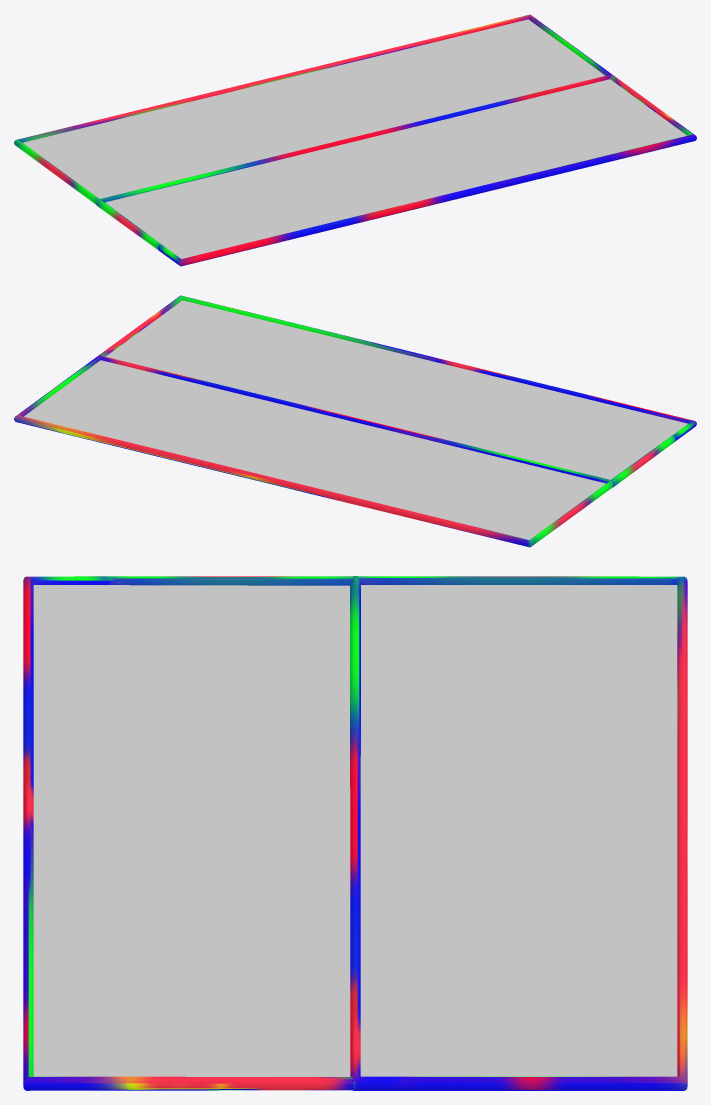
Rendered from table5.glb.
3 views of the same model, one above another, from view 1: azimuth 30°, elevation 25°; view 2: azimuth 150°, elevation 25°; view 3: azimuth 270°, elevation 25° (orthographic). The views are drawn at different scales.
Parts seen in each view (by area): view 1: piano, Cube; view 2: piano, Cube; view 3: piano, Cube.
Boxes of the visible parts, box(x1,y1,x2,y2) form: piano: box(23, 19, 686, 258); Cube: box(14, 14, 696, 266); piano: box(24, 300, 687, 539); Cube: box(14, 295, 696, 547); piano: box(33, 585, 677, 1076); Cube: box(23, 576, 687, 1090).
Bounding box in the file's own units: 4.79 × 0.0631 × 2.66.
2 materials, 1 textured.
